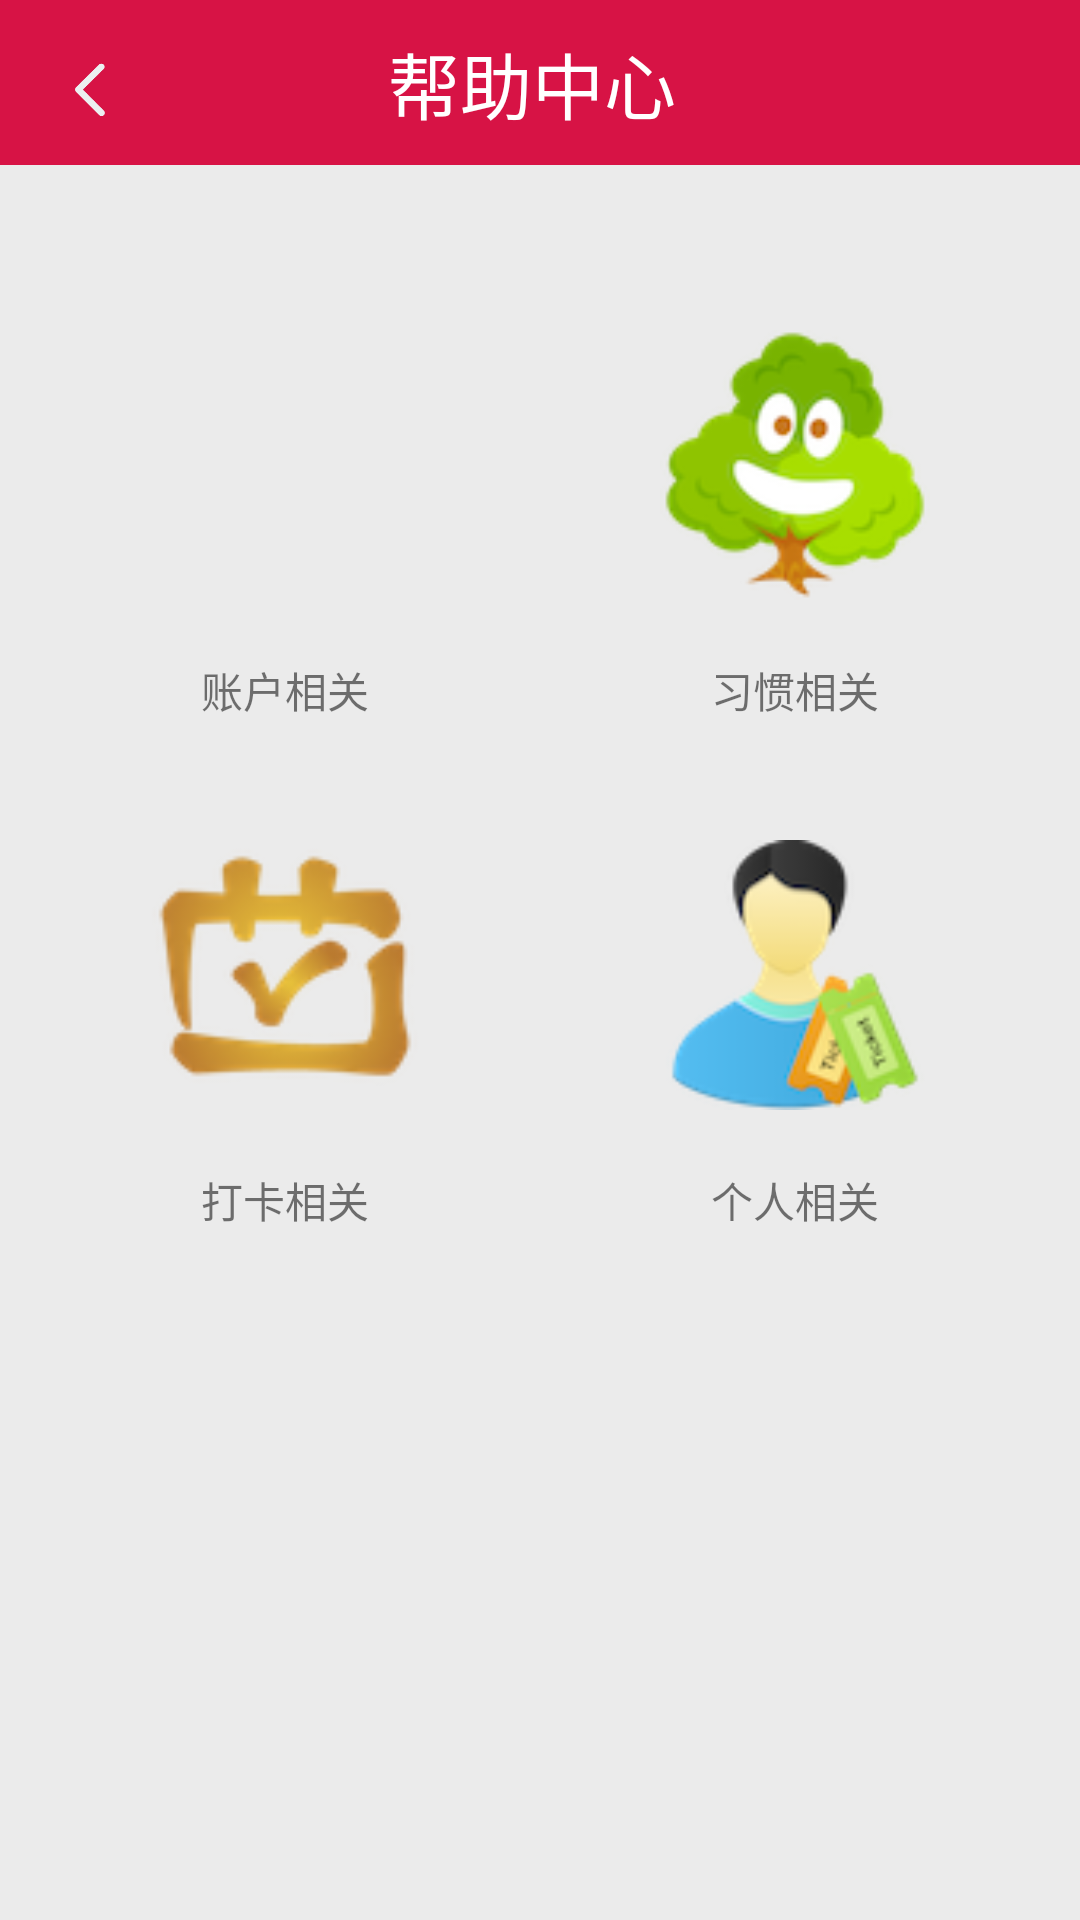

Locate icon controls on the screen. Image size 1080px×1920px, boxes as (x1, y1, x2, y2).
back: (75, 63, 105, 116)
psign: (159, 856, 411, 1077)
